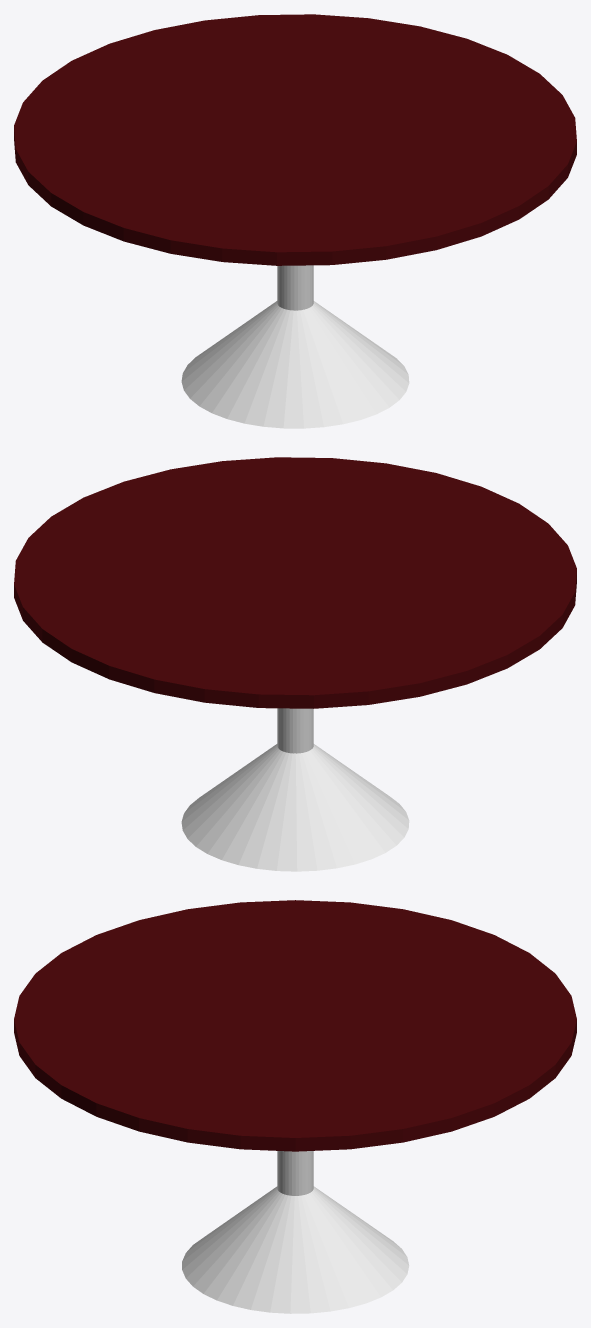
The model's file is table 1.fbx.
3 views of the same model, one above another, from view 1: azimuth 30°, elevation 25°; view 2: azimuth 150°, elevation 25°; view 3: azimuth 270°, elevation 25° (orthographic).
Parts seen in each view (by area): view 1: Cylinder.001, Cone.001, Cylinder; view 2: Cylinder.001, Cone.001, Cylinder; view 3: Cylinder.001, Cone.001, Cylinder.
Part boxes in pixels (bbox=[...]): Cylinder.001: bbox=[14, 14, 576, 265]; Cone.001: bbox=[181, 301, 409, 428]; Cylinder: bbox=[277, 265, 313, 310]; Cylinder.001: bbox=[14, 457, 576, 708]; Cone.001: bbox=[181, 744, 409, 871]; Cylinder: bbox=[277, 708, 313, 753]; Cylinder.001: bbox=[14, 900, 576, 1151]; Cone.001: bbox=[182, 1186, 409, 1313]; Cylinder: bbox=[277, 1151, 313, 1195].
Size of the model in its own units: 188 by 90.9 by 188.
